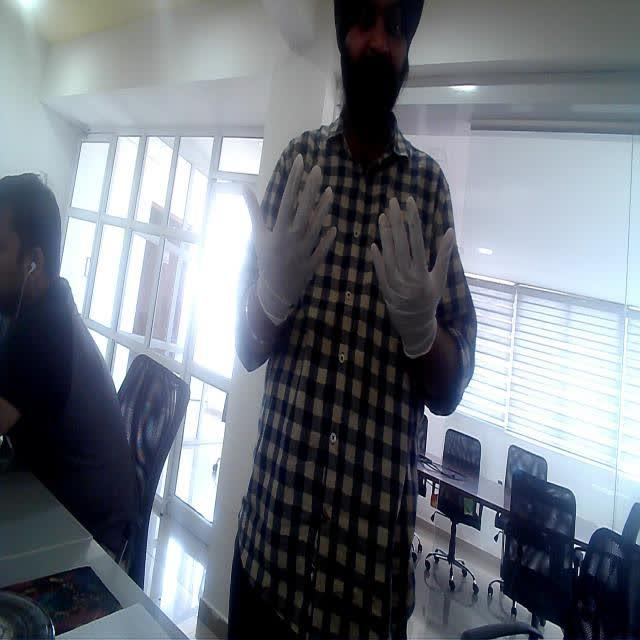with_gloves: (241, 138, 334, 272), (381, 175, 446, 341)
